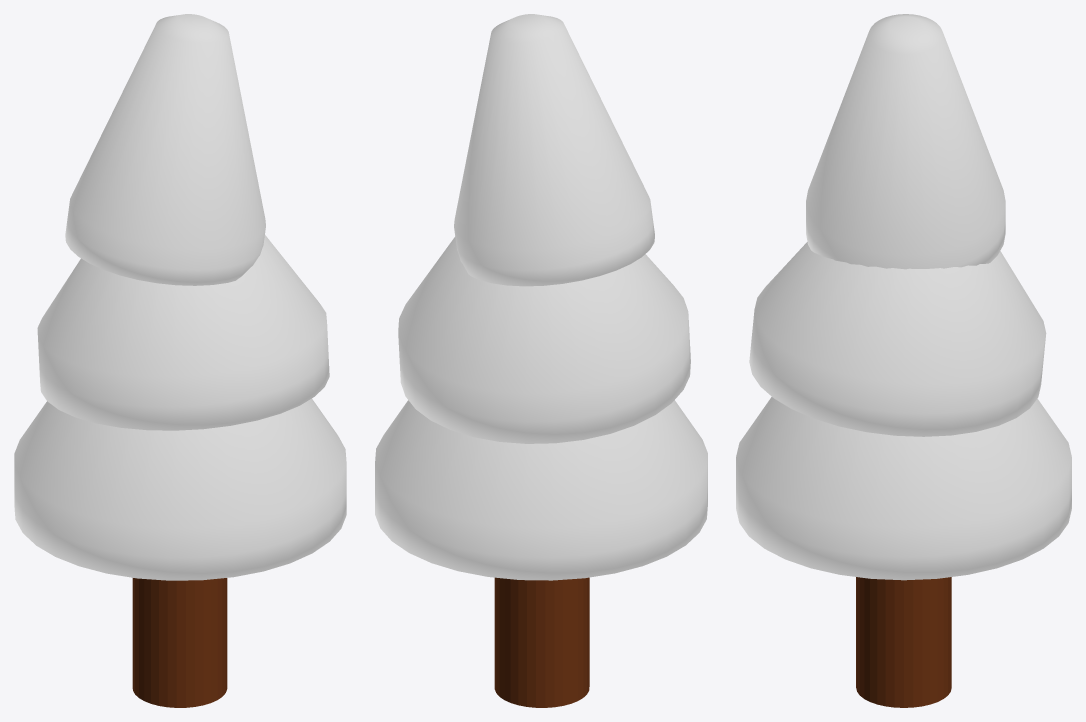
Rendered from tree.glb.
The picture shows the model from 3 angles, left to right: view 1: azimuth 30°, elevation 25°; view 2: azimuth 150°, elevation 25°; view 3: azimuth 270°, elevation 25°; orthographic projection.
Visible parts, largest first — view 1: Cylinder, Cylinder.001; view 2: Cylinder, Cylinder.001; view 3: Cylinder, Cylinder.001.
Boxes of the visible parts, <box> form: Cylinder: <box>14,14,346,580</box>; Cylinder.001: <box>132,578,227,707</box>; Cylinder: <box>375,14,707,580</box>; Cylinder.001: <box>494,577,589,707</box>; Cylinder: <box>736,14,1071,580</box>; Cylinder.001: <box>856,577,951,707</box>.
Size of the model in its own units: 0.9363 by 2.07 by 0.9363.
